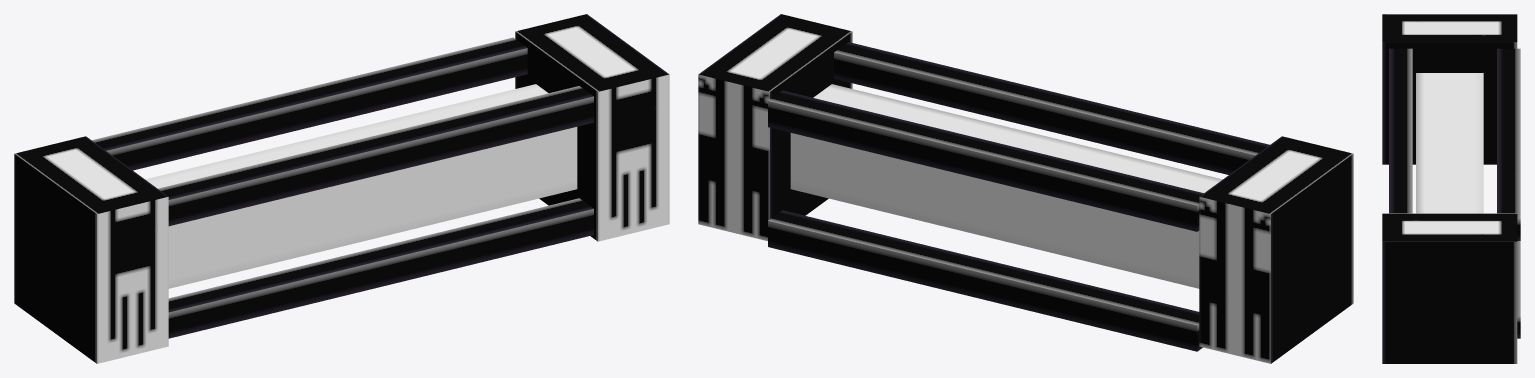
The model's file is PlayerSensor_fix.obj.
3 renders of one model, left to right at view 1: azimuth 30°, elevation 25°; view 2: azimuth 150°, elevation 25°; view 3: azimuth 270°, elevation 25°, orthographic. The views are drawn at different scales.
Parts seen in each view (by area): view 1: Dtalle2, Nucleo, Izquierda, Derecha; view 2: Dtalle2, Nucleo, Izquierda, Derecha, Dtalle1; view 3: Derecha, Nucleo, Izquierda, Dtalle2, Dtalle1.
Part boxes in pixels (<box>): Dtalle2: <box>92,37,593,338</box>; Nucleo: <box>145,84,577,288</box>; Izquierda: <box>14,136,168,363</box>; Derecha: <box>515,14,669,241</box>; Dtalle2: <box>768,42,1269,231</box>; Nucleo: <box>790,84,1222,288</box>; Izquierda: <box>1199,136,1353,363</box>; Derecha: <box>698,14,852,240</box>; Dtalle1: <box>768,210,1202,351</box>; Derecha: <box>1382,213,1517,363</box>; Nucleo: <box>1416,73,1483,213</box>; Izquierda: <box>1382,14,1517,164</box>; Dtalle2: <box>1389,48,1520,240</box>; Dtalle1: <box>1517,241,1520,338</box>.
Size of the model in its own units: 1 by 0.2563 by 0.2563.
Materials: 1 (1 with a texture image).
